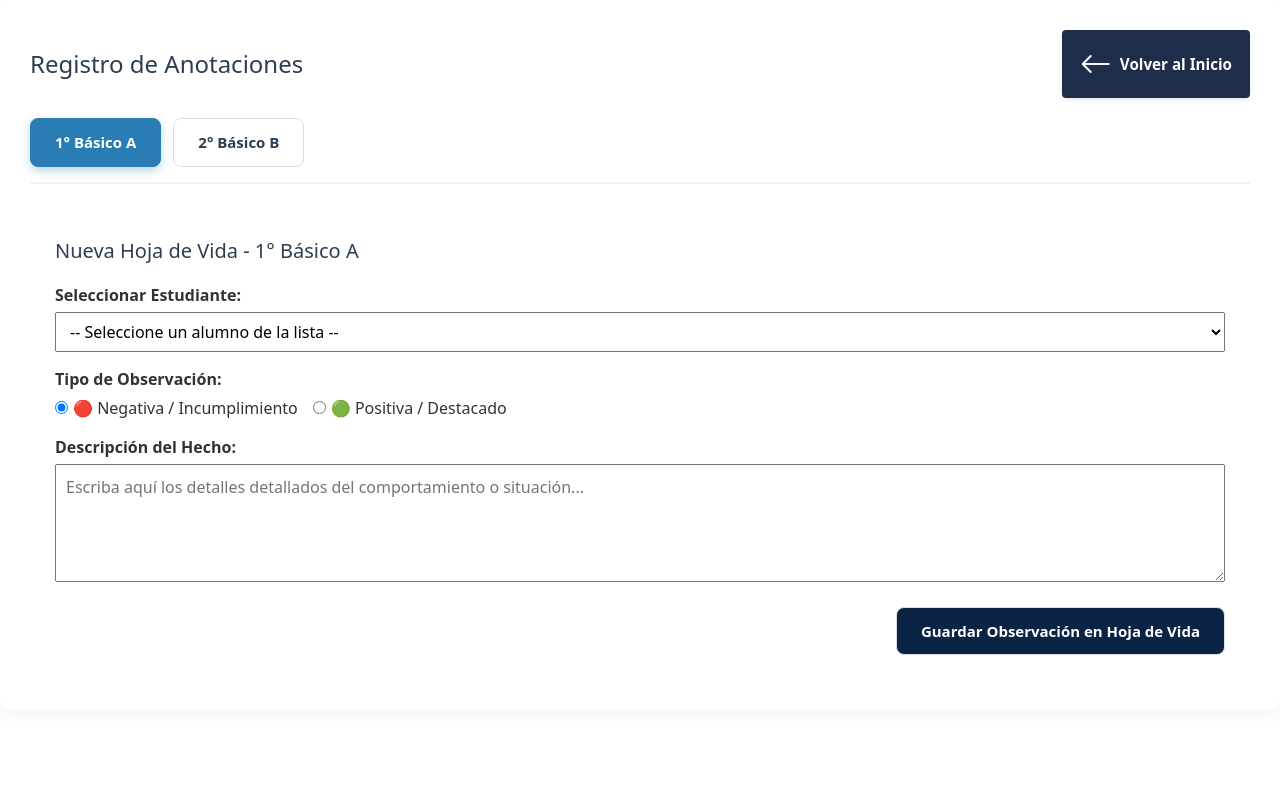
Test: Anotaciones › Cambio de curso › resetea el select de alumno al cambiar de curso
Check: the text "Seleccionar Estudiante:" is shown, box [55,284,241,306]
Seleccionar alumno en curso 1
Step 1. Select "Soto, Ana (12345678-9)" in the dropdown → (640, 332), box [55,312,1225,352]
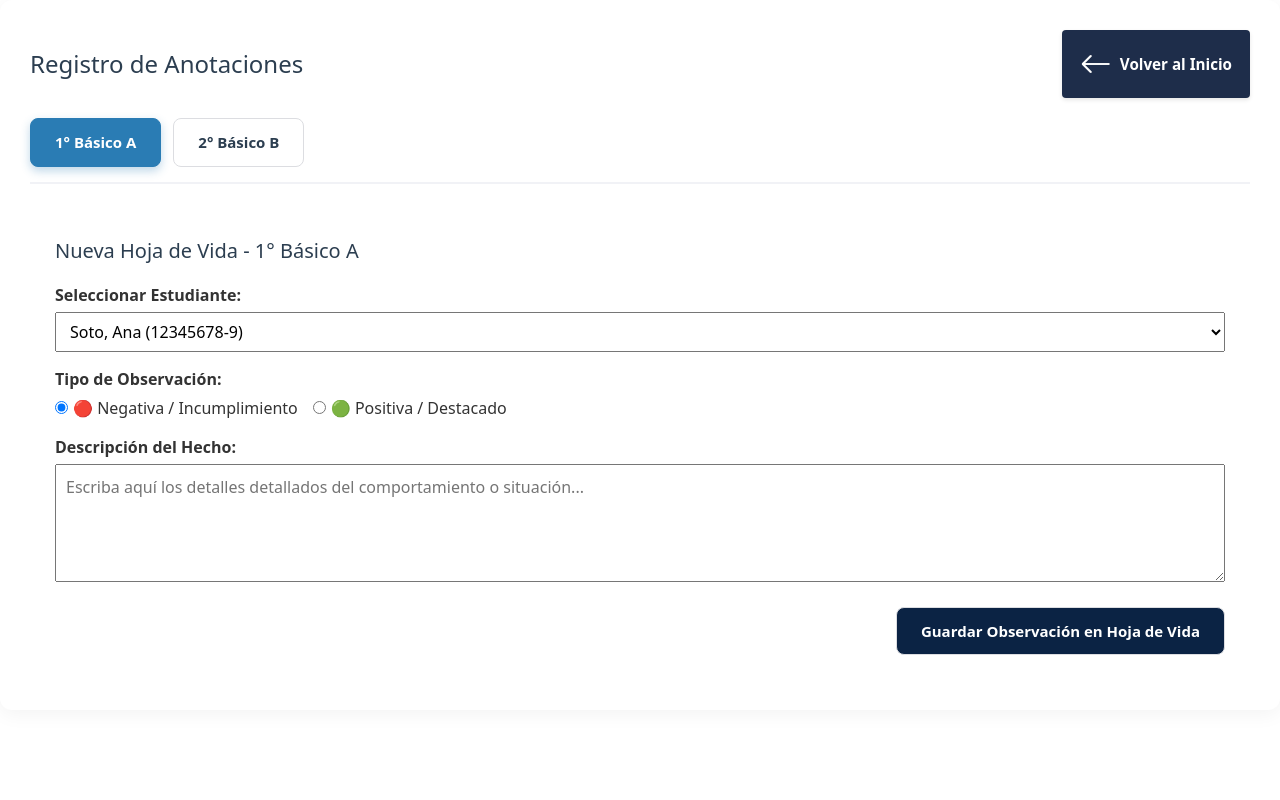
Cambiar de curso
Step 2. Click the button "2° Básico B" → click(239, 142), box [173,118,304,166]
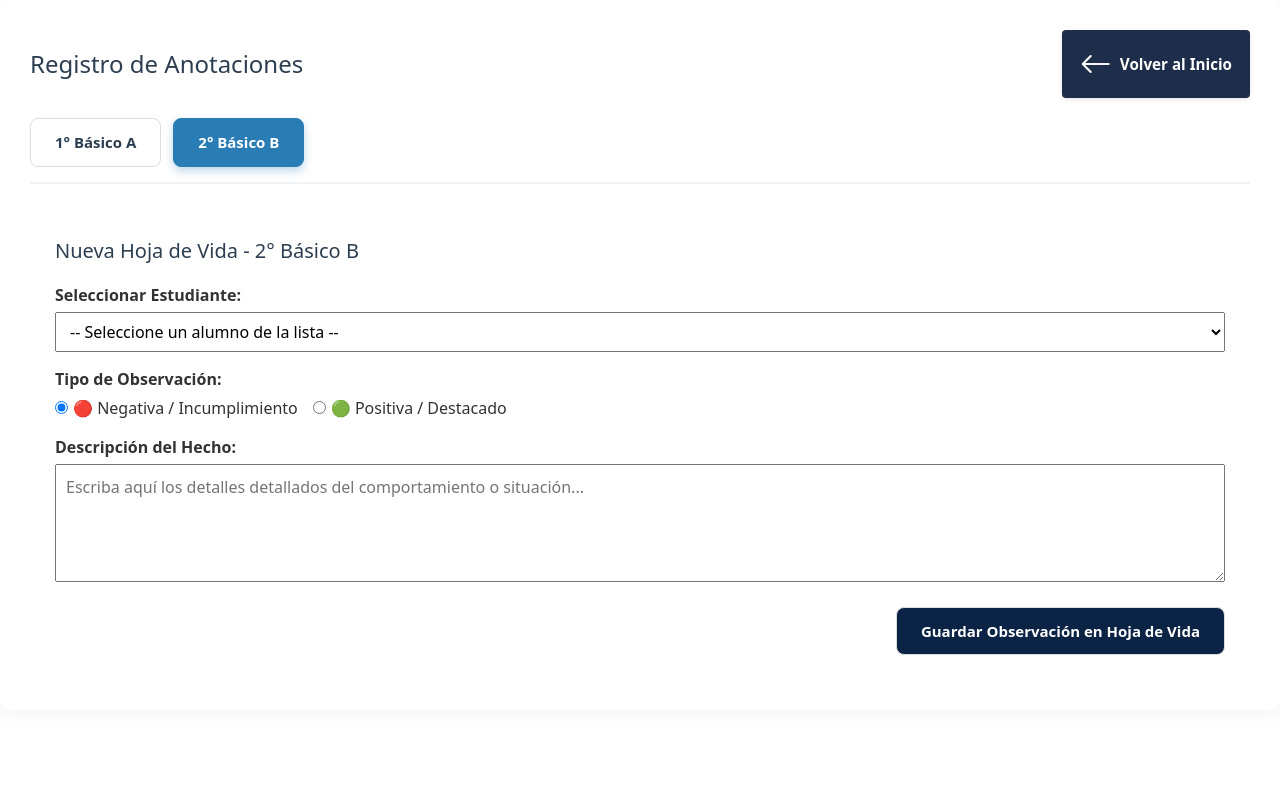
Check: the dropdown shows "-- Seleccione un alumno de la lista --", box [55,312,1225,352]
